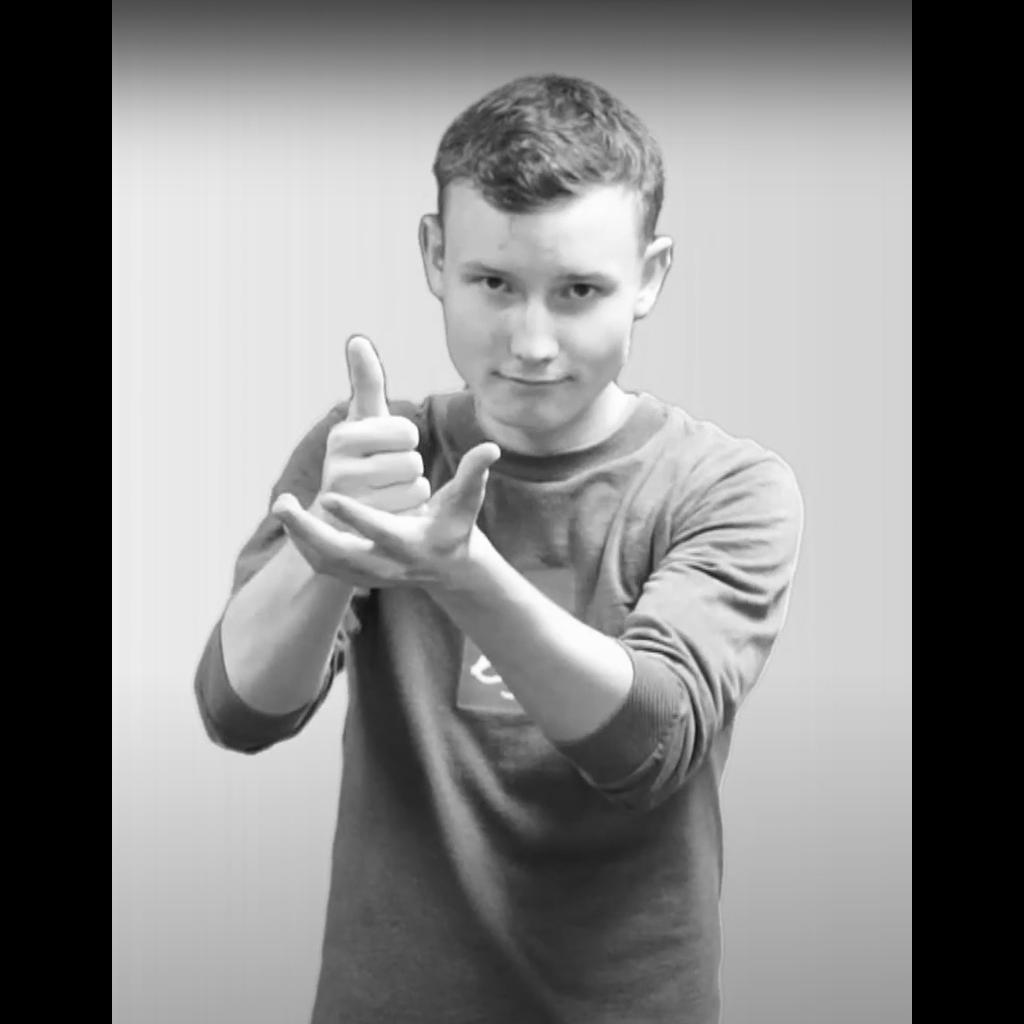help: (272, 334, 500, 586)
